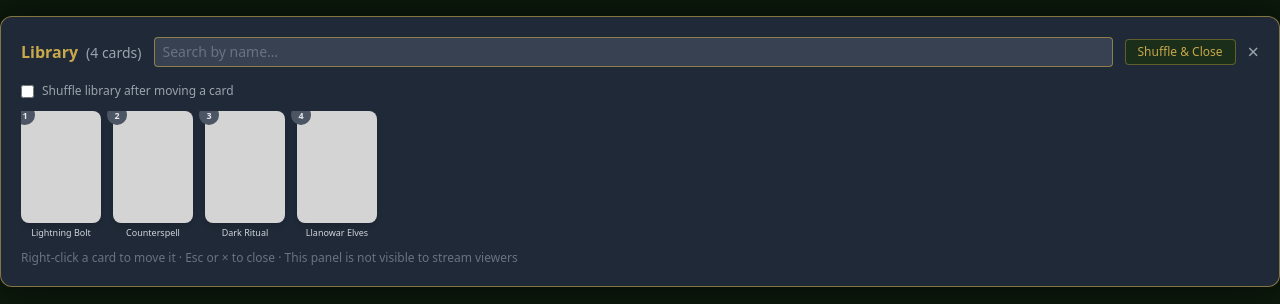
LibraryBrowser › filters cards by search query
This screenshot has width=1280, height=304.
Type "bolt" into the field with test id "library-search" at (633, 52), box [154,37,1112,67]
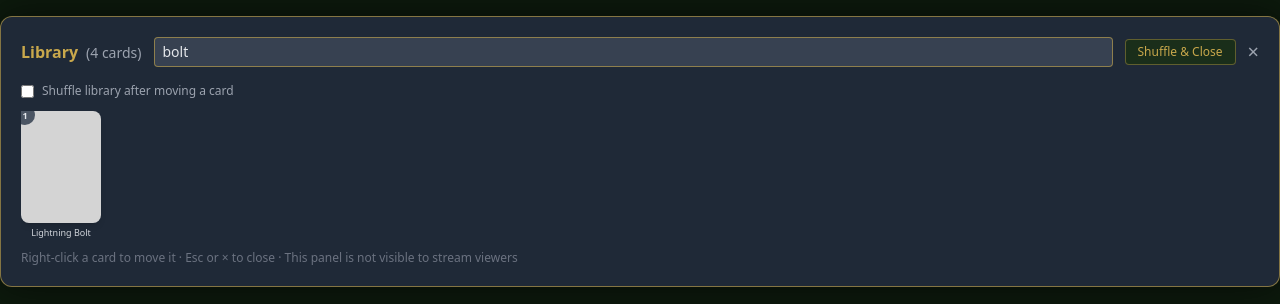
Expected: the text "Lightning Bolt" is shown, [31,227,91,238]
Expected: the text "Counterspell" is gone
